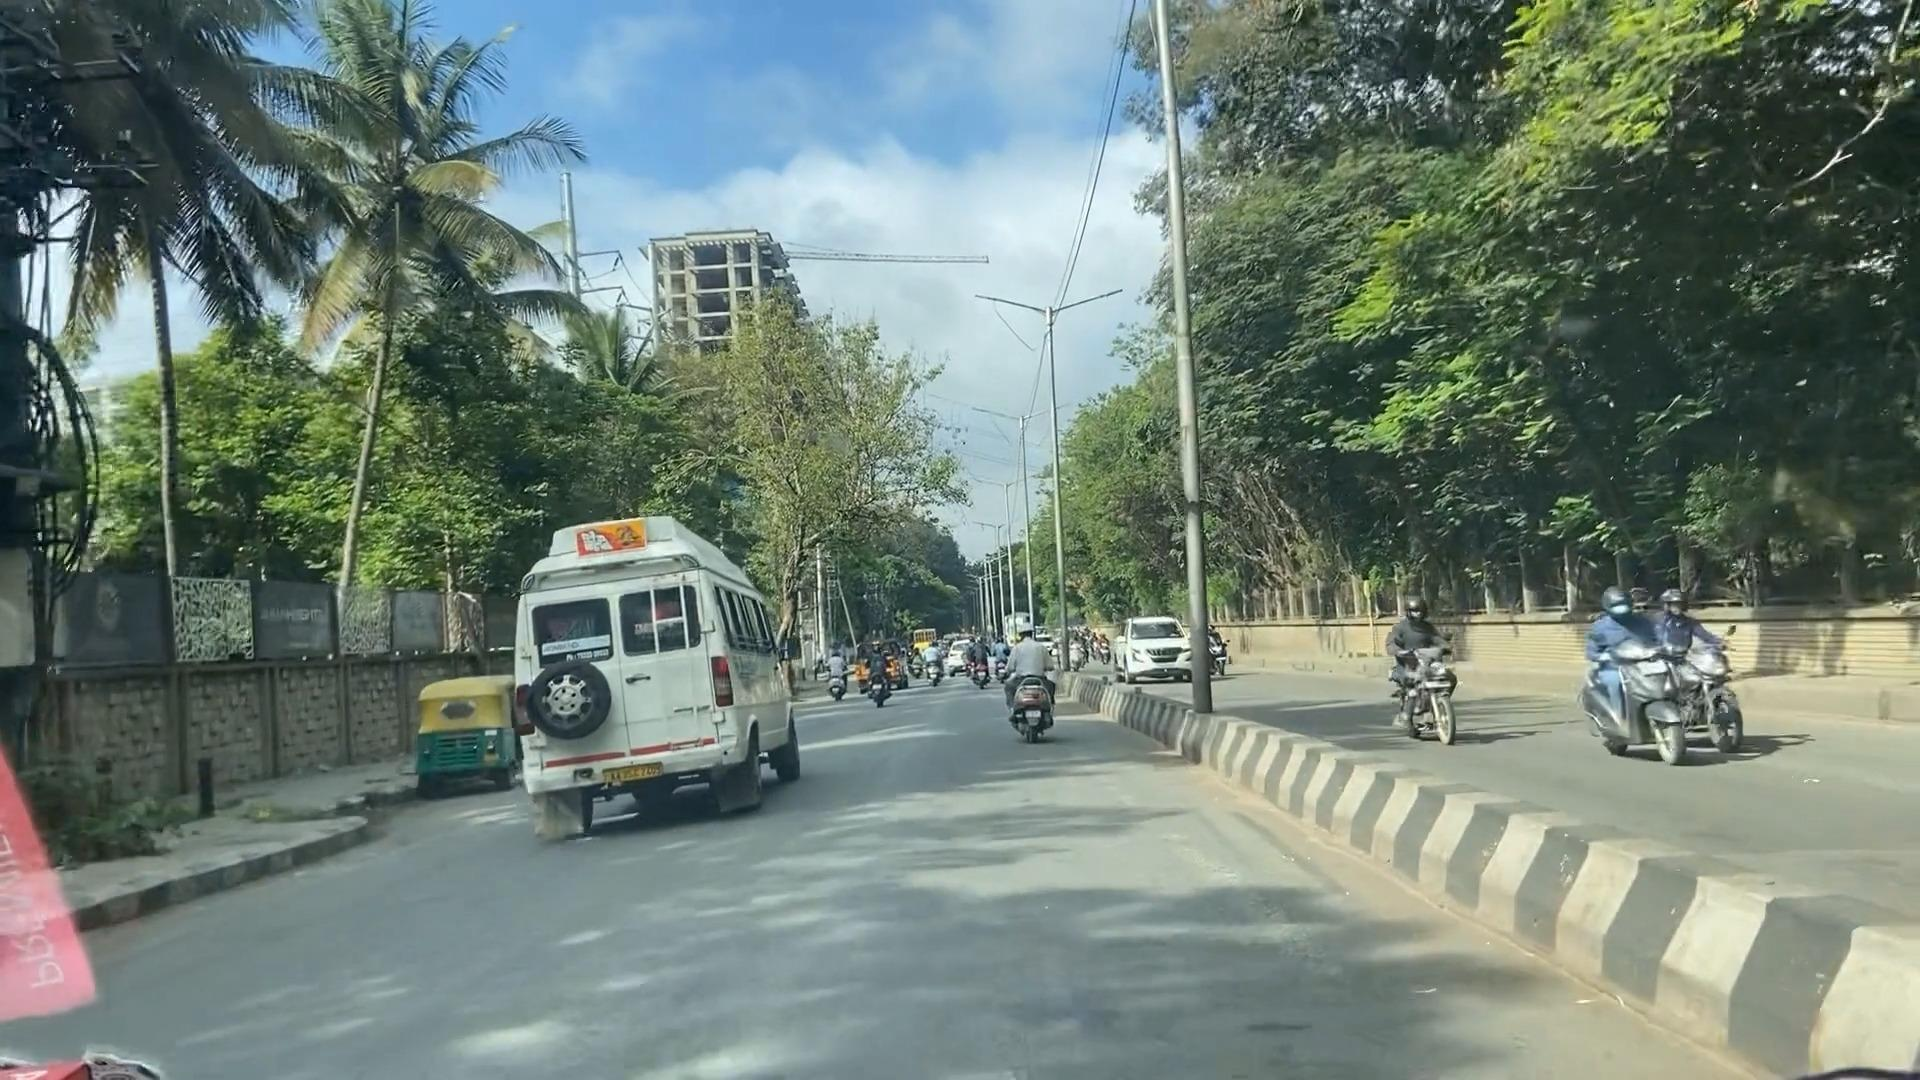HMV: (488, 521, 807, 823)
